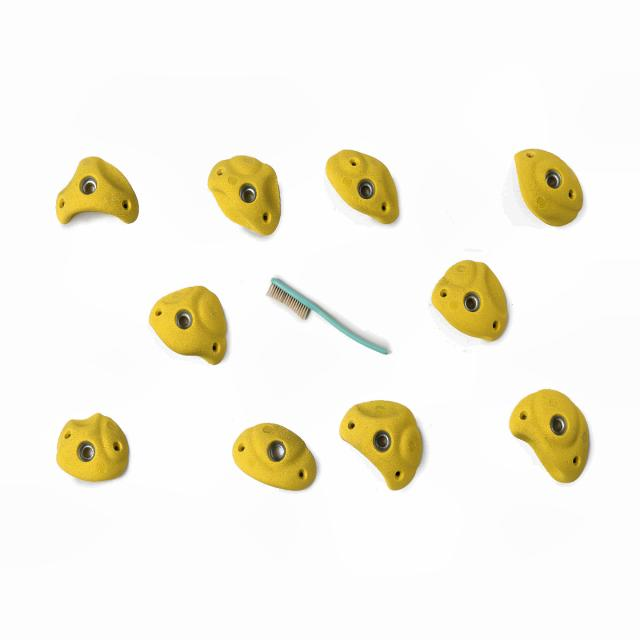Hold: (504, 379, 588, 484), (320, 141, 412, 229), (427, 255, 512, 342), (340, 397, 421, 487), (54, 154, 146, 232), (143, 282, 228, 362), (209, 150, 284, 234), (229, 420, 317, 491), (511, 145, 587, 223), (60, 408, 134, 484)
